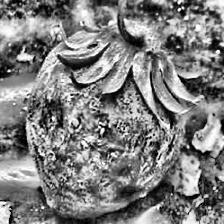Gray Mold: (26, 17, 202, 219)
